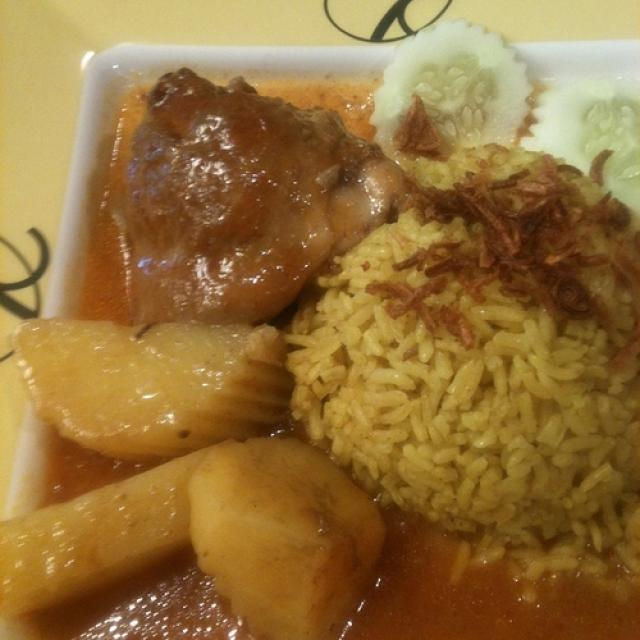米饭主食: (18, 23, 623, 623)
